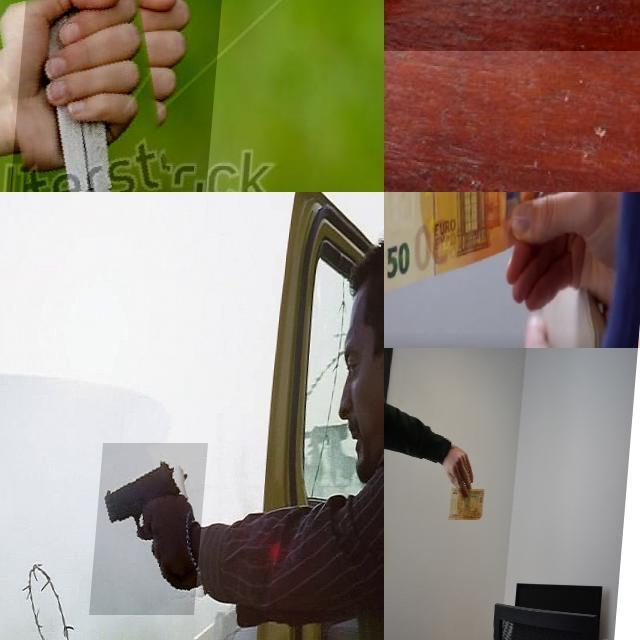-: (384, 0, 640, 192), (0, 0, 225, 192)
gun-knife-thesis - v11 Yolov5 augmented: (98, 443, 214, 615)
